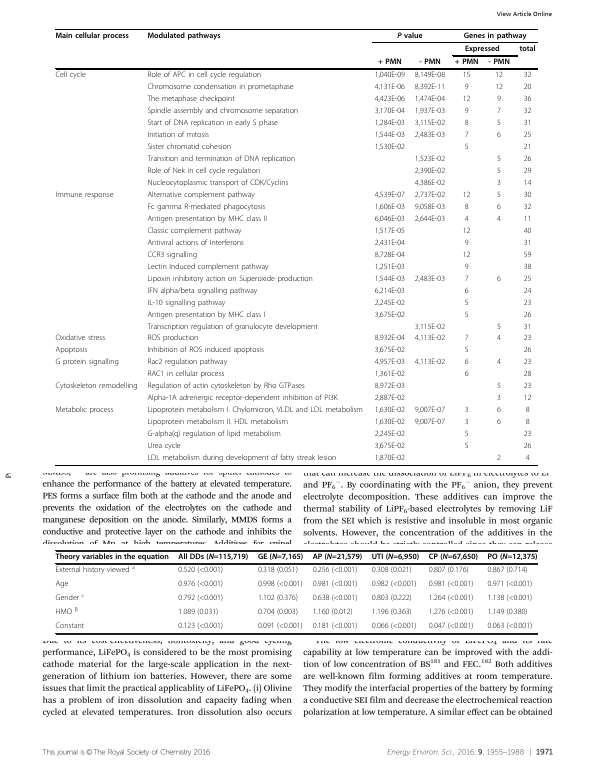borderless: (54, 27, 538, 465), (54, 549, 537, 633)
cell: (146, 405, 364, 415), (146, 393, 339, 403), (146, 453, 337, 463), (146, 381, 306, 391), (146, 322, 319, 331), (146, 106, 299, 116), (146, 274, 314, 283), (146, 154, 296, 164), (146, 178, 289, 188), (146, 417, 289, 427), (146, 429, 282, 439), (146, 83, 295, 92), (146, 118, 279, 128), (146, 214, 268, 224), (146, 202, 266, 212), (146, 166, 261, 176), (146, 262, 269, 271), (146, 190, 256, 200), (146, 310, 266, 319), (146, 346, 265, 355), (146, 71, 262, 80), (55, 553, 170, 562), (146, 286, 258, 295), (54, 564, 136, 576), (146, 226, 242, 236), (146, 94, 236, 104), (146, 238, 245, 247), (146, 142, 232, 152), (54, 381, 139, 391), (146, 357, 228, 367), (146, 369, 225, 379), (146, 298, 226, 307), (55, 31, 130, 40), (146, 31, 221, 40), (54, 357, 120, 367), (177, 553, 249, 562), (146, 130, 210, 140), (54, 190, 114, 200), (54, 405, 114, 415), (463, 31, 527, 40), (146, 334, 199, 343), (177, 566, 224, 576), (177, 580, 224, 590), (486, 580, 533, 590), (177, 594, 224, 604), (486, 594, 533, 604), (177, 622, 224, 632), (486, 622, 533, 632), (146, 250, 198, 259), (54, 334, 106, 343), (486, 553, 538, 562), (312, 566, 358, 576), (257, 580, 303, 590), (312, 580, 358, 590), (371, 580, 417, 590), (428, 580, 474, 590), (312, 594, 358, 604), (428, 594, 474, 604), (428, 608, 474, 618), (257, 622, 303, 632), (312, 622, 358, 632), (371, 622, 417, 632), (428, 622, 474, 632), (312, 553, 363, 562), (428, 553, 479, 562), (371, 553, 420, 562), (257, 553, 304, 562), (257, 566, 299, 576), (371, 566, 413, 576), (428, 566, 470, 576), (486, 566, 528, 576), (257, 594, 299, 604), (371, 594, 413, 604), (177, 608, 219, 618), (257, 608, 299, 618), (371, 608, 413, 618), (486, 608, 528, 618), (312, 608, 353, 618), (464, 44, 501, 54), (146, 441, 182, 451), (55, 592, 85, 604), (374, 94, 406, 104), (414, 94, 446, 104), (374, 106, 406, 116), (414, 106, 446, 116), (374, 118, 406, 128), (414, 118, 446, 128), (374, 130, 406, 140), (414, 130, 446, 140), (374, 142, 406, 152), (414, 154, 446, 164), (414, 166, 446, 176), (414, 178, 446, 188), (374, 190, 406, 200), (414, 190, 446, 200), (374, 202, 406, 212), (414, 202, 446, 212), (374, 214, 406, 224), (414, 214, 446, 224), (374, 226, 406, 236), (374, 357, 406, 367), (414, 357, 446, 367), (374, 369, 406, 379), (374, 381, 406, 391), (374, 393, 406, 403), (374, 405, 406, 415), (414, 405, 446, 415), (374, 417, 406, 427), (414, 417, 446, 427), (374, 429, 406, 439), (374, 441, 406, 451), (374, 453, 406, 463), (54, 346, 88, 355), (55, 622, 85, 632), (54, 71, 87, 80), (374, 71, 406, 80), (414, 71, 446, 80), (374, 83, 406, 92), (414, 83, 446, 92), (374, 238, 406, 247), (374, 250, 406, 259), (374, 262, 406, 271), (374, 274, 406, 283), (414, 274, 446, 283), (374, 286, 406, 295), (374, 298, 406, 307), (374, 310, 406, 319), (414, 322, 446, 331), (374, 334, 406, 343), (414, 334, 446, 343), (374, 346, 406, 355), (55, 606, 79, 618), (377, 57, 403, 67), (454, 57, 479, 67), (396, 31, 423, 40), (487, 57, 511, 67), (418, 57, 441, 67), (519, 44, 536, 54), (55, 580, 69, 590), (494, 71, 504, 80), (494, 83, 504, 92), (462, 94, 471, 104), (523, 94, 532, 104), (523, 106, 532, 116), (523, 118, 532, 128), (523, 130, 532, 140), (523, 142, 532, 152), (523, 154, 532, 164), (523, 166, 532, 176), (523, 178, 532, 188), (462, 190, 471, 200), (523, 190, 532, 200), (523, 202, 532, 212), (523, 214, 532, 224), (462, 226, 471, 236), (523, 226, 532, 236), (523, 357, 532, 367), (523, 369, 532, 379), (523, 381, 532, 391), (523, 393, 532, 403), (523, 429, 532, 439), (523, 441, 532, 451), (462, 71, 471, 80), (523, 71, 532, 80), (523, 83, 532, 92), (523, 238, 532, 247), (462, 250, 471, 259), (523, 250, 532, 259), (523, 262, 532, 271), (523, 274, 532, 283), (523, 286, 532, 295), (523, 298, 532, 307), (523, 310, 532, 319), (523, 322, 532, 331), (523, 334, 532, 343), (523, 346, 532, 355), (496, 94, 502, 104), (496, 106, 502, 116), (496, 118, 502, 128), (496, 130, 502, 140), (496, 154, 502, 164), (496, 166, 502, 176), (496, 178, 502, 188), (496, 190, 502, 200), (496, 202, 502, 212), (496, 214, 502, 224), (496, 357, 502, 367), (496, 381, 502, 391), (496, 393, 502, 403), (496, 405, 502, 415), (496, 417, 502, 427), (496, 453, 502, 463), (496, 274, 502, 283), (496, 322, 502, 331), (496, 334, 502, 343), (464, 106, 469, 116), (464, 118, 469, 128), (464, 130, 469, 140), (464, 142, 469, 152), (464, 202, 469, 212), (464, 214, 469, 224), (464, 357, 469, 367), (464, 369, 469, 379), (464, 405, 469, 415), (525, 405, 530, 415), (464, 417, 469, 427), (525, 417, 530, 427), (464, 429, 469, 439), (464, 441, 469, 451), (525, 453, 530, 463), (464, 83, 469, 92), (464, 238, 469, 247), (464, 262, 469, 271), (464, 274, 469, 283), (464, 286, 469, 295), (464, 298, 469, 307), (464, 310, 469, 319), (464, 334, 469, 343), (464, 346, 469, 355)
